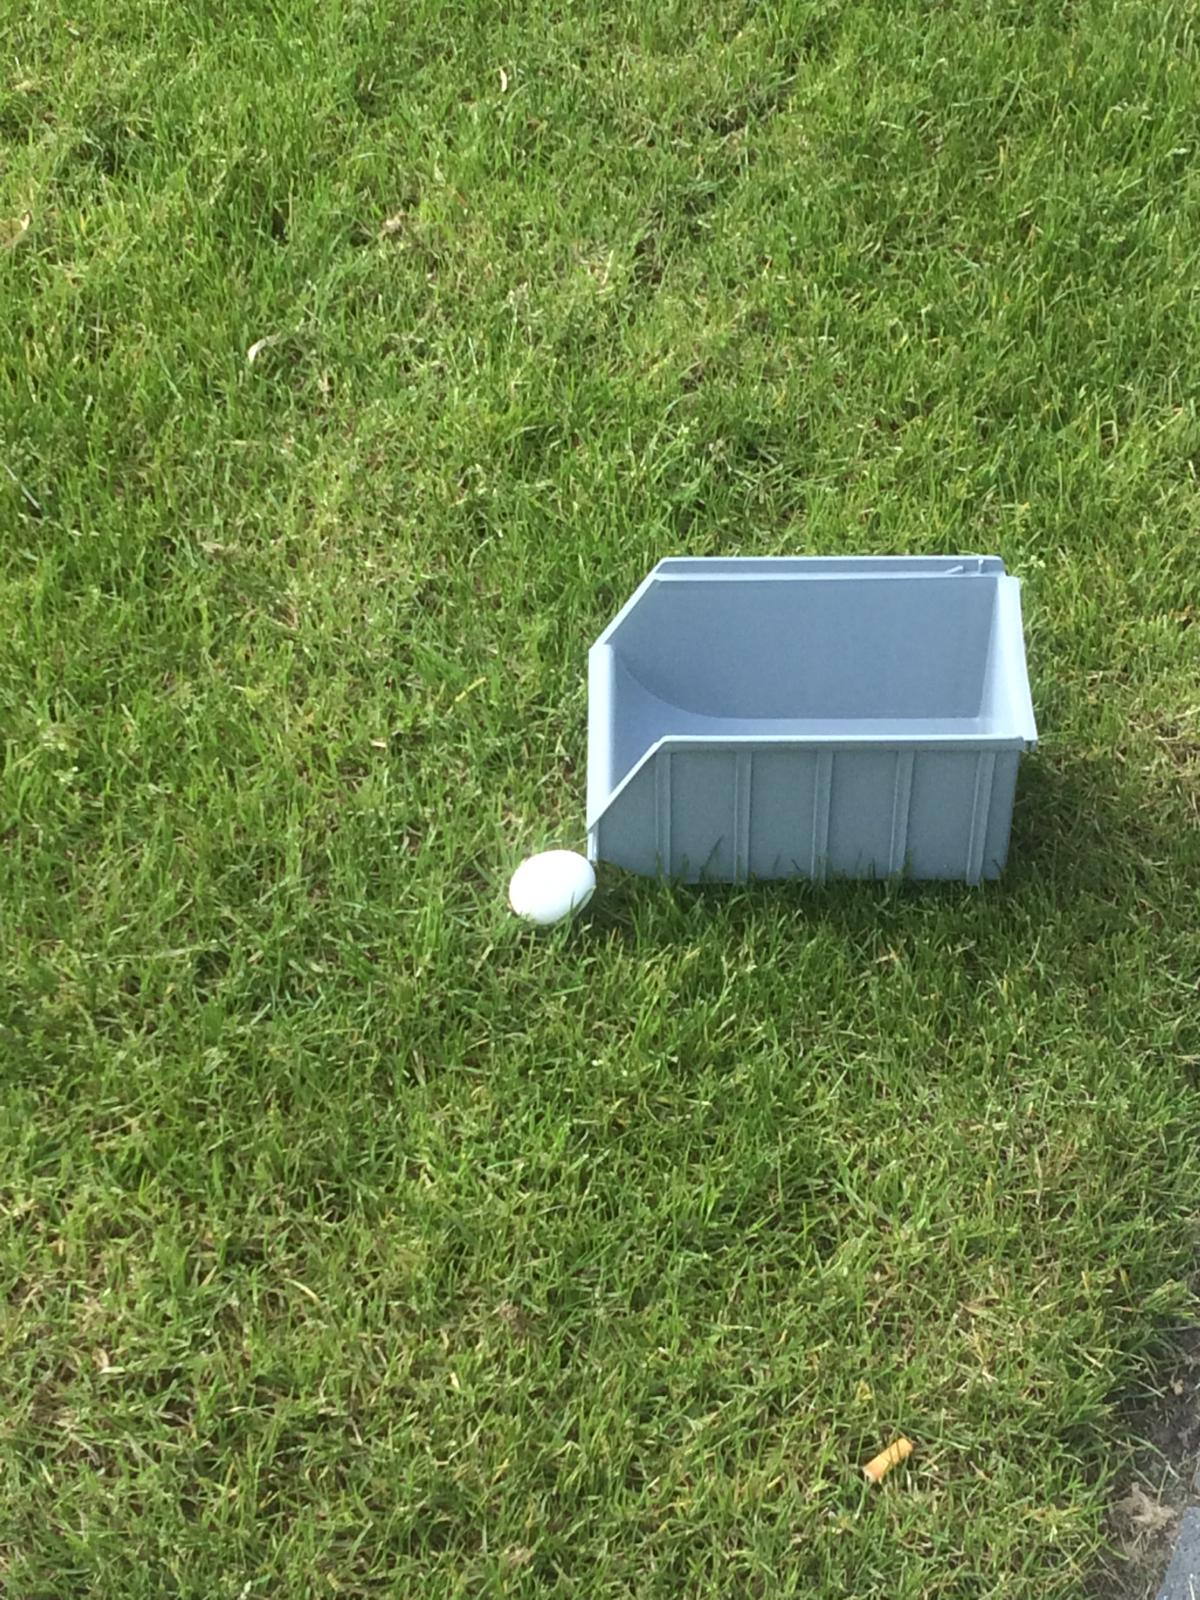egg: (500, 844, 603, 927)
tray: (586, 551, 1044, 905)
